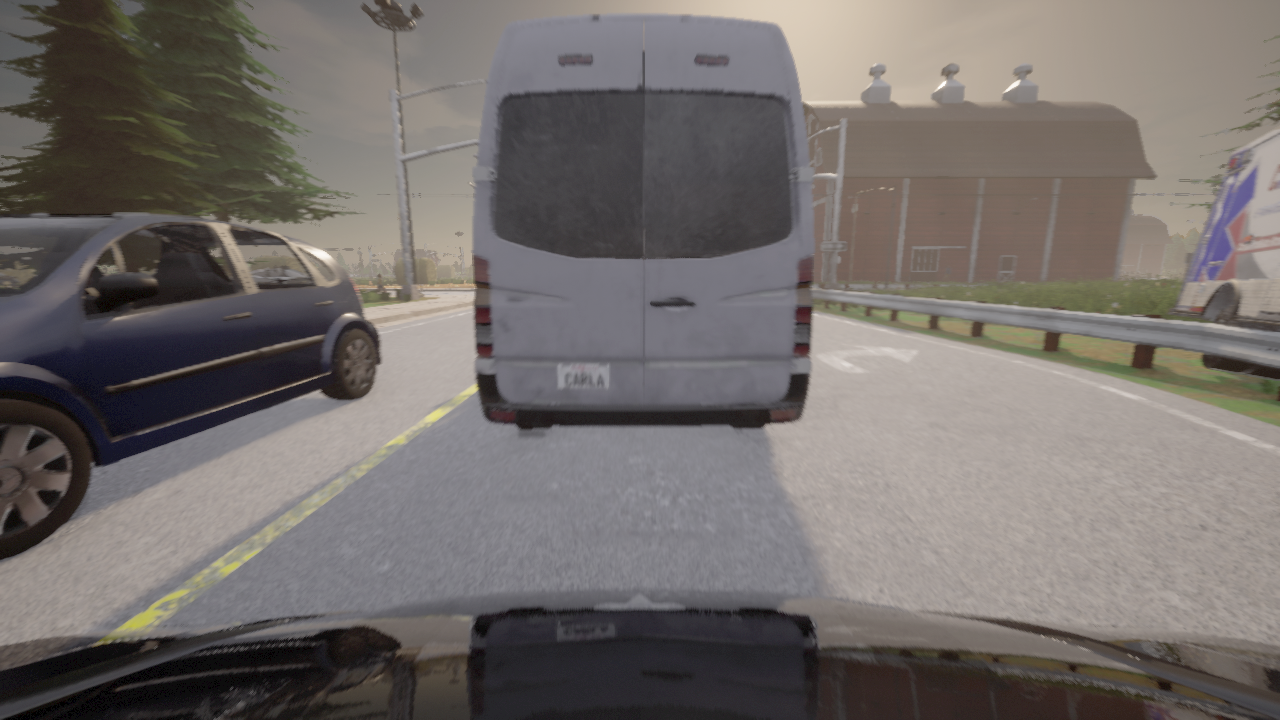cyclist: (0, 588, 1279, 719), (473, 14, 813, 427), (0, 212, 380, 560), (1167, 126, 1279, 379), (1119, 269, 1141, 279)
pedestrian: (943, 263, 951, 283), (377, 274, 385, 293)
